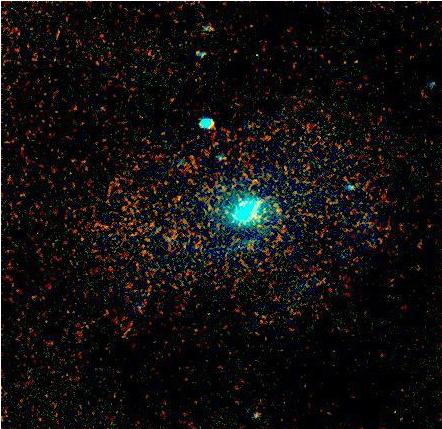star: (237, 200, 267, 230)
